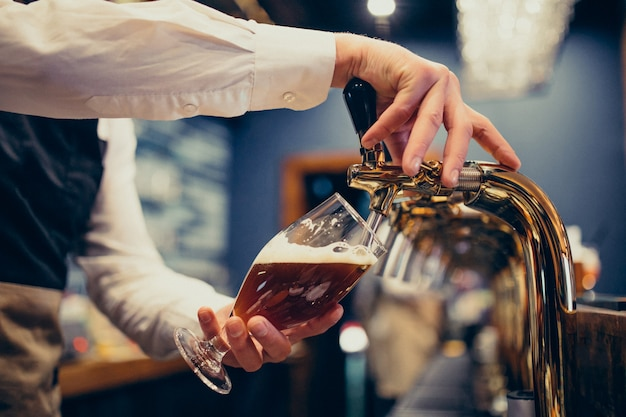alcohol: (172, 191, 388, 398)
